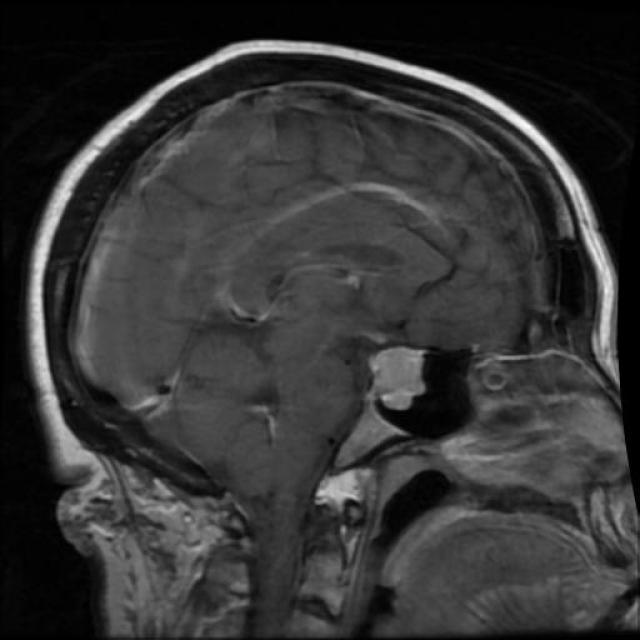pituitary: (362, 342, 433, 413), (358, 338, 359, 340)
